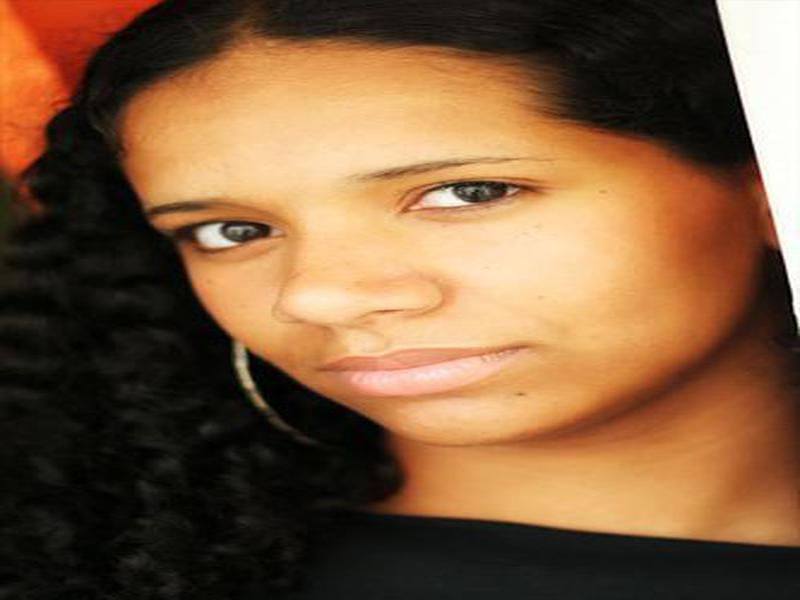person: (20, 5, 800, 599)
